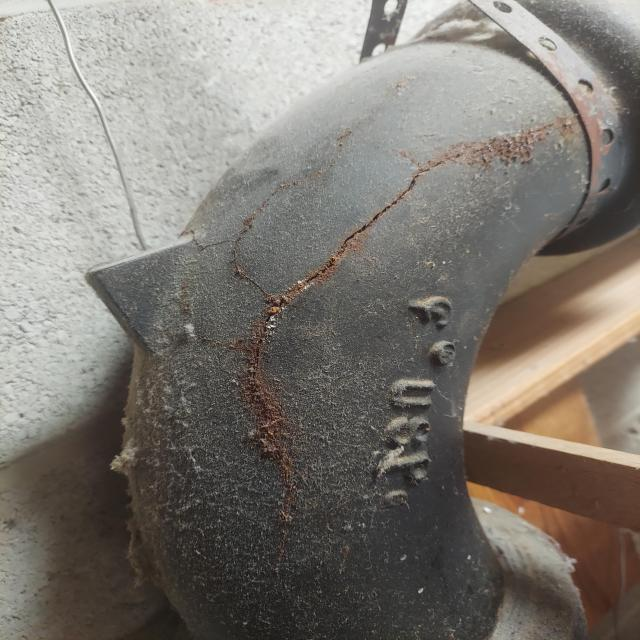burst: (82, 1, 620, 638)
